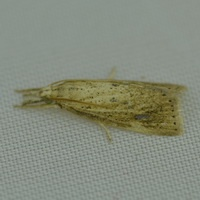insect: (14, 78, 186, 141)
